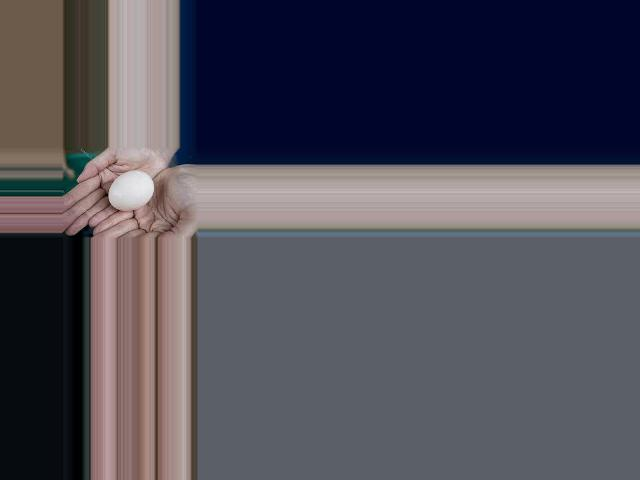egg: (108, 171, 153, 210)
